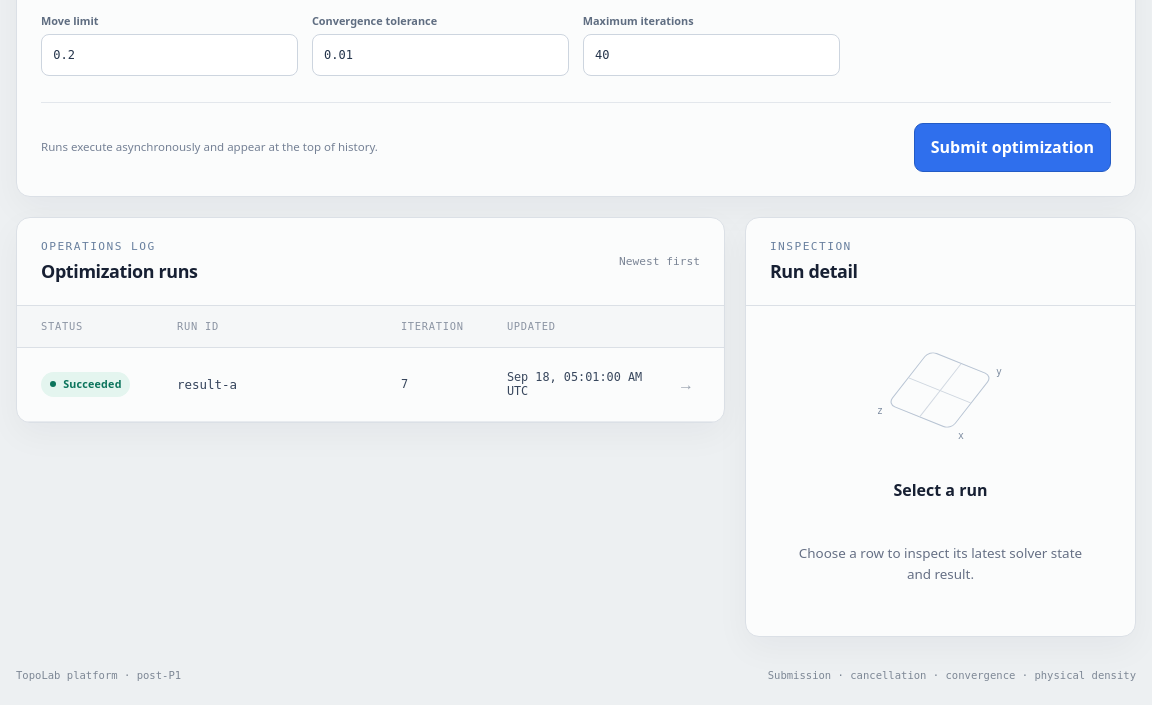
Test case: App › loads one full result on selection
This screenshot has width=1152, height=705.
(page scrolled)
Click the button with aria-label "Open run result-a".
click(86, 384)  # box left=17, top=348, right=724, bottom=422
(page scrolled)
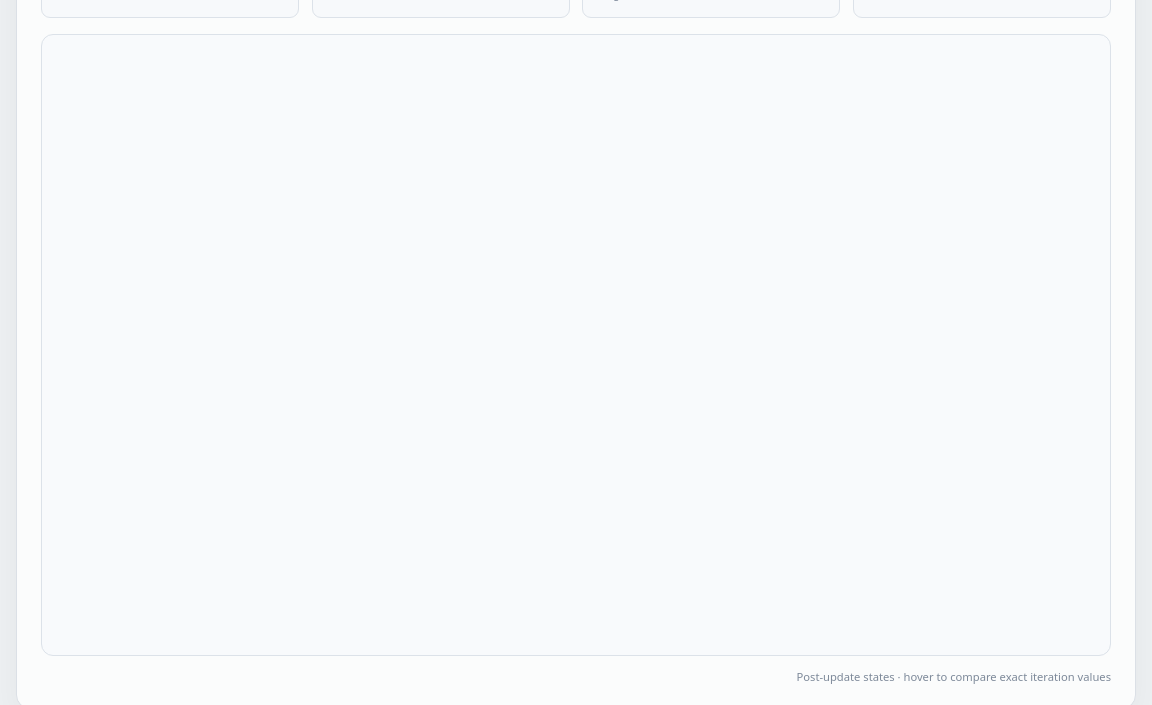
Expected: the picture named "Convergence history across 1 recorded states" is shown
